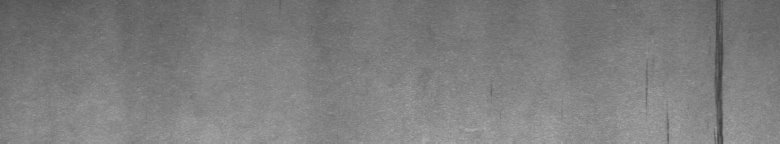hd: (646, 4, 732, 136)
